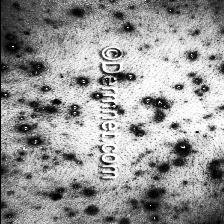Toxin: (128, 50, 224, 224), (0, 49, 89, 224), (0, 0, 224, 38)
